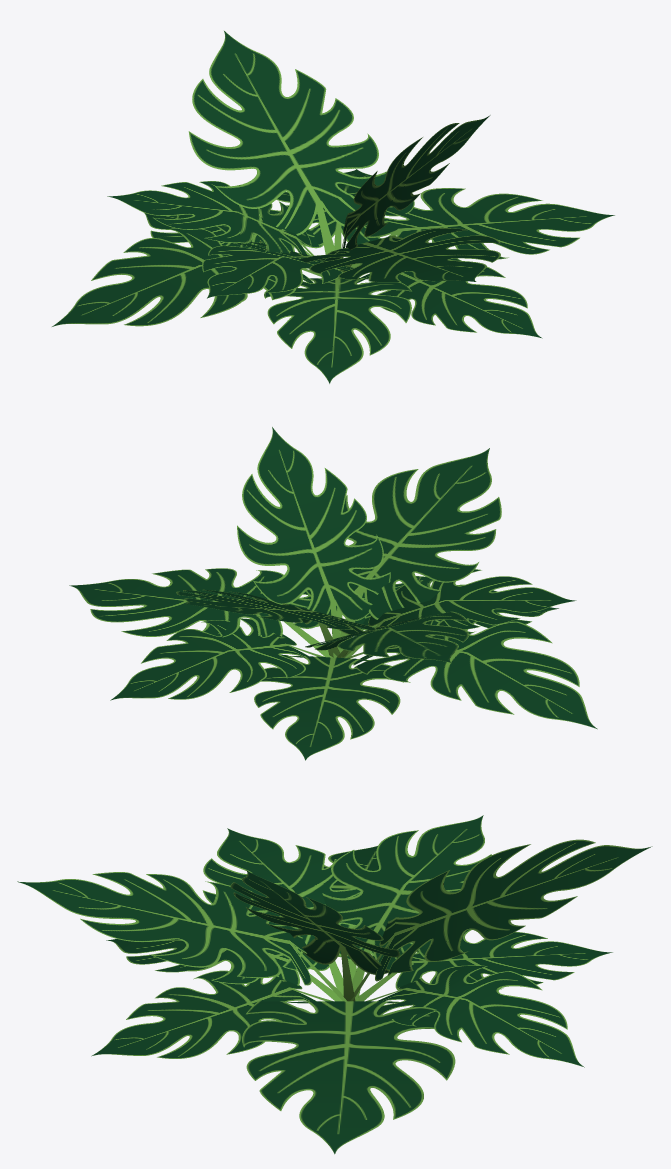
File: Palm4_LOD1.fbx
The picture shows the model from 3 angles, top to bottom: view 1: azimuth 30°, elevation 25°; view 2: azimuth 150°, elevation 25°; view 3: azimuth 270°, elevation 25°; orthographic projection. The views are drawn at different scales.
Parts seen in each view (by area): view 1: Palm4_LOD1; view 2: Palm4_LOD1; view 3: Palm4_LOD1.
Part boxes in pixels (left/top/right/bottom): Palm4_LOD1: left=52, top=31, right=614, bottom=383; Palm4_LOD1: left=69, top=427, right=597, bottom=760; Palm4_LOD1: left=17, top=815, right=652, bottom=1154.
Size of the model in its own units: 678 by 217 by 600.
